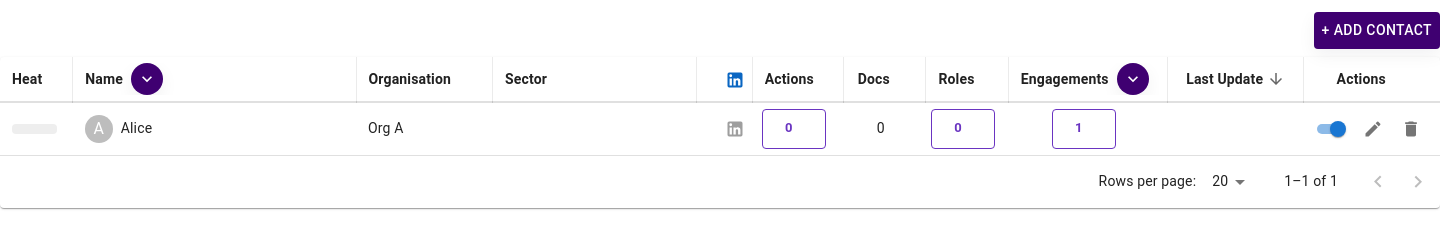
ContactsTable name/title/role grouping › defaults collapsed showing only Name; expands to show Title and Role
Check: the text "Alice" is shown, box left=121, top=118, right=152, bottom=138
Check: the text "Title" is not shown
Click the button named "Expand name columns" at (147, 78), box left=131, top=62, right=163, bottom=94
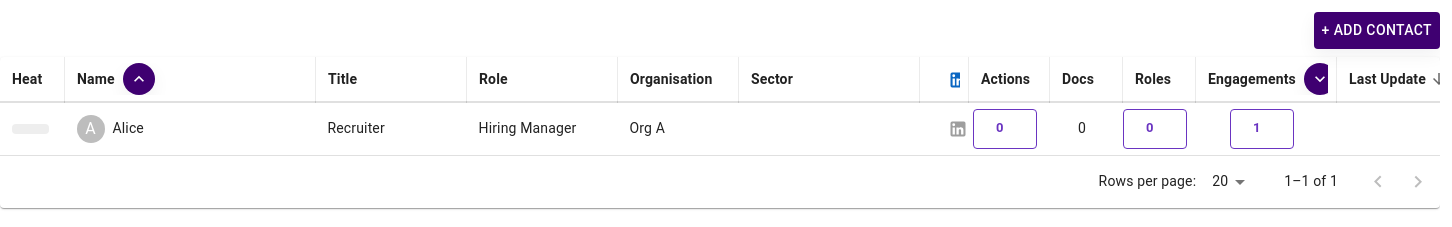
Check: the button "Title" is shown, box left=328, top=71, right=357, bottom=87
Check: the button "Role" is shown, box left=479, top=71, right=508, bottom=87
Check: the text "Recruiter" is shown, box left=328, top=118, right=385, bottom=138
